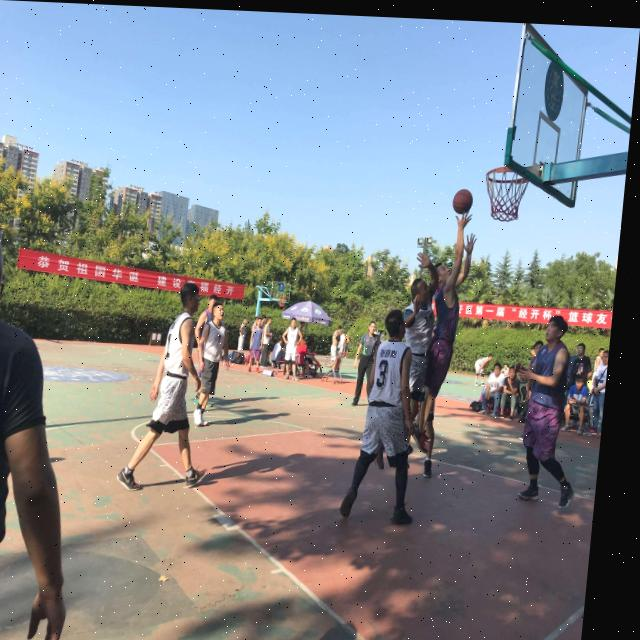basketball: (452, 188, 474, 215)
hoop: (482, 167, 530, 222)
